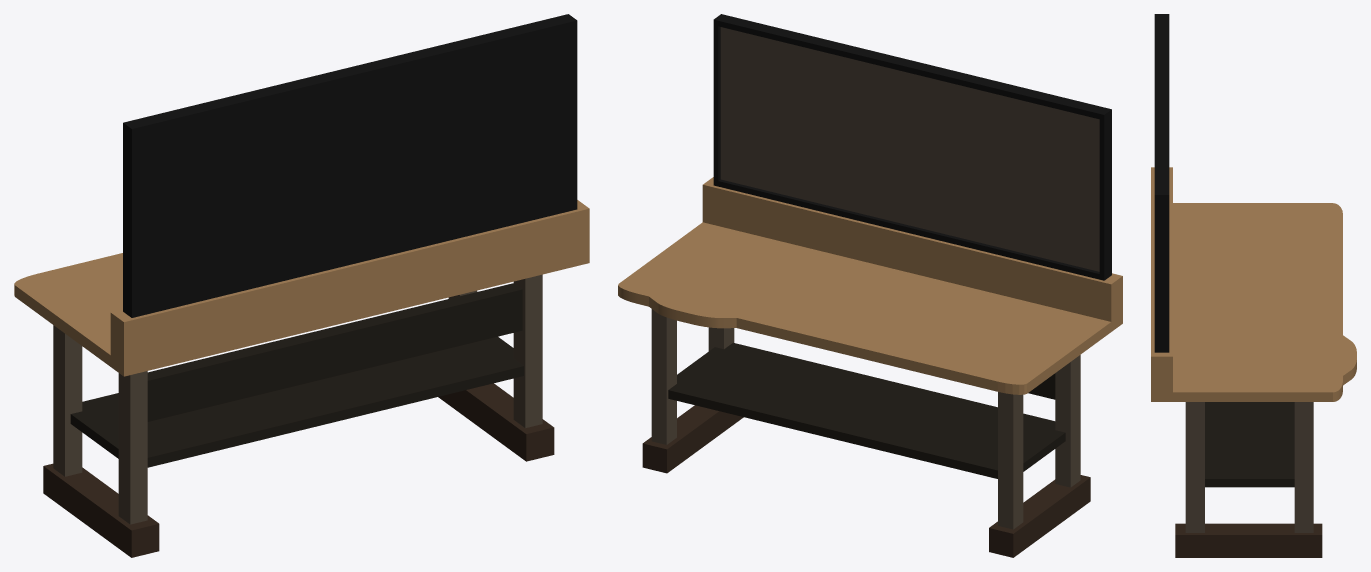
Rendered from Workbench.fbx.
3 renders of one model, left to right at view 1: azimuth 30°, elevation 25°; view 2: azimuth 150°, elevation 25°; view 3: azimuth 270°, elevation 25°, orthographic. The views are drawn at different scales.
Parts seen in each view (by area): view 1: Backboard, TableTop, Table_BottomBoard, Table_Bottom_Back, Table_Botton_Right, Table_Leg3, Table_Bottom_Left, Table_Leg4, Table_Leg2; view 2: Backboard, TableTop, Table_BottomBoard, Table_Botton_Right, Table_Leg4, Table_Leg1, Table_Bottom_Left, Table_Leg3; view 3: TableTop, Table_BottomBoard, Backboard, Table_Bottom_Left, Table_Leg1, Table_Leg2.
Boxes of the visible parts, left/top/right/bottom form: Backboard: left=123, top=14, right=577, bottom=317; TableTop: left=14, top=200, right=589, bottom=376; Table_BottomBoard: left=70, top=336, right=523, bottom=467; Table_Bottom_Back: left=147, top=283, right=522, bottom=421; Table_Botton_Right: left=43, top=463, right=159, bottom=557; Table_Leg3: left=118, top=371, right=147, bottom=524; Table_Bottom_Left: left=438, top=383, right=554, bottom=461; Table_Leg4: left=53, top=325, right=82, bottom=476; Table_Leg2: left=513, top=274, right=542, bottom=427; Backboard: left=713, top=14, right=1111, bottom=280; TableTop: left=618, top=177, right=1122, bottom=394; Table_BottomBoard: left=668, top=342, right=1065, bottom=478; Table_Botton_Right: left=989, top=475, right=1090, bottom=557; Table_Leg4: left=998, top=392, right=1023, bottom=529; Table_Leg1: left=651, top=309, right=676, bottom=444; Table_Bottom_Left: left=642, top=405, right=743, bottom=473; Table_Leg3: left=1055, top=355, right=1080, bottom=487; TableTop: left=1151, top=167, right=1356, bottom=401; Table_BottomBoard: left=1205, top=402, right=1294, bottom=487; Backboard: left=1154, top=14, right=1169, bottom=352; Table_Bottom_Left: left=1175, top=523, right=1322, bottom=557; Table_Leg1: left=1294, top=402, right=1313, bottom=532; Table_Leg2: left=1185, top=402, right=1204, bottom=532.
Bounding box in the file's own units: 527 × 477 × 242.
